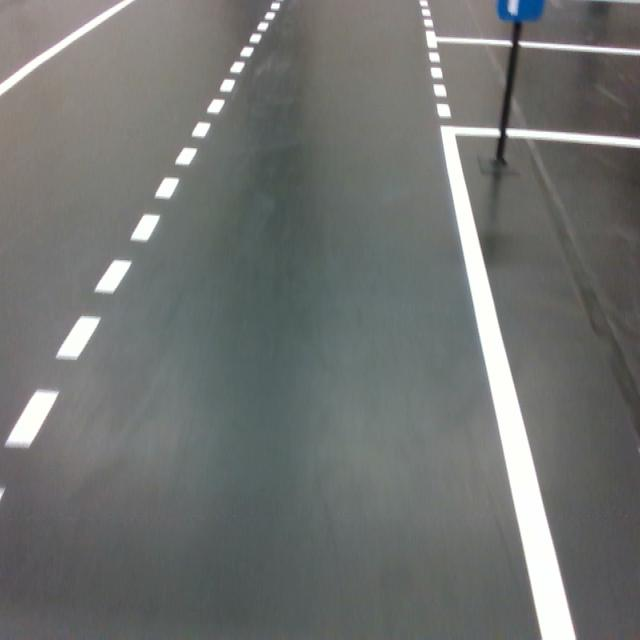parking-sign: (494, 0, 545, 23)
